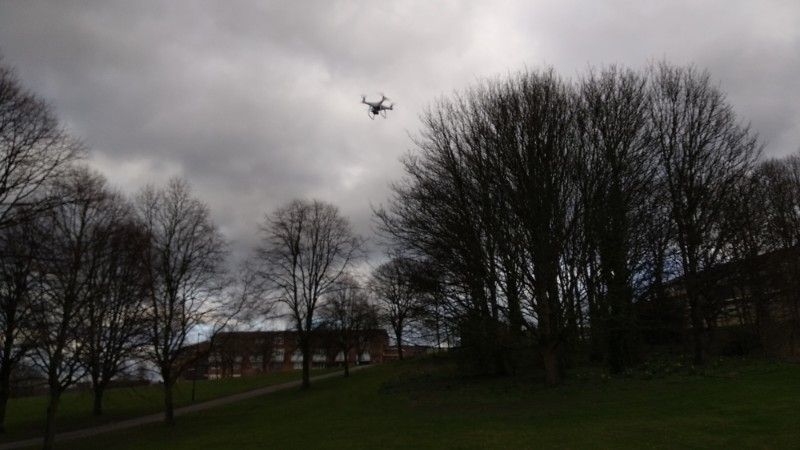drone: (359, 94, 396, 120)
